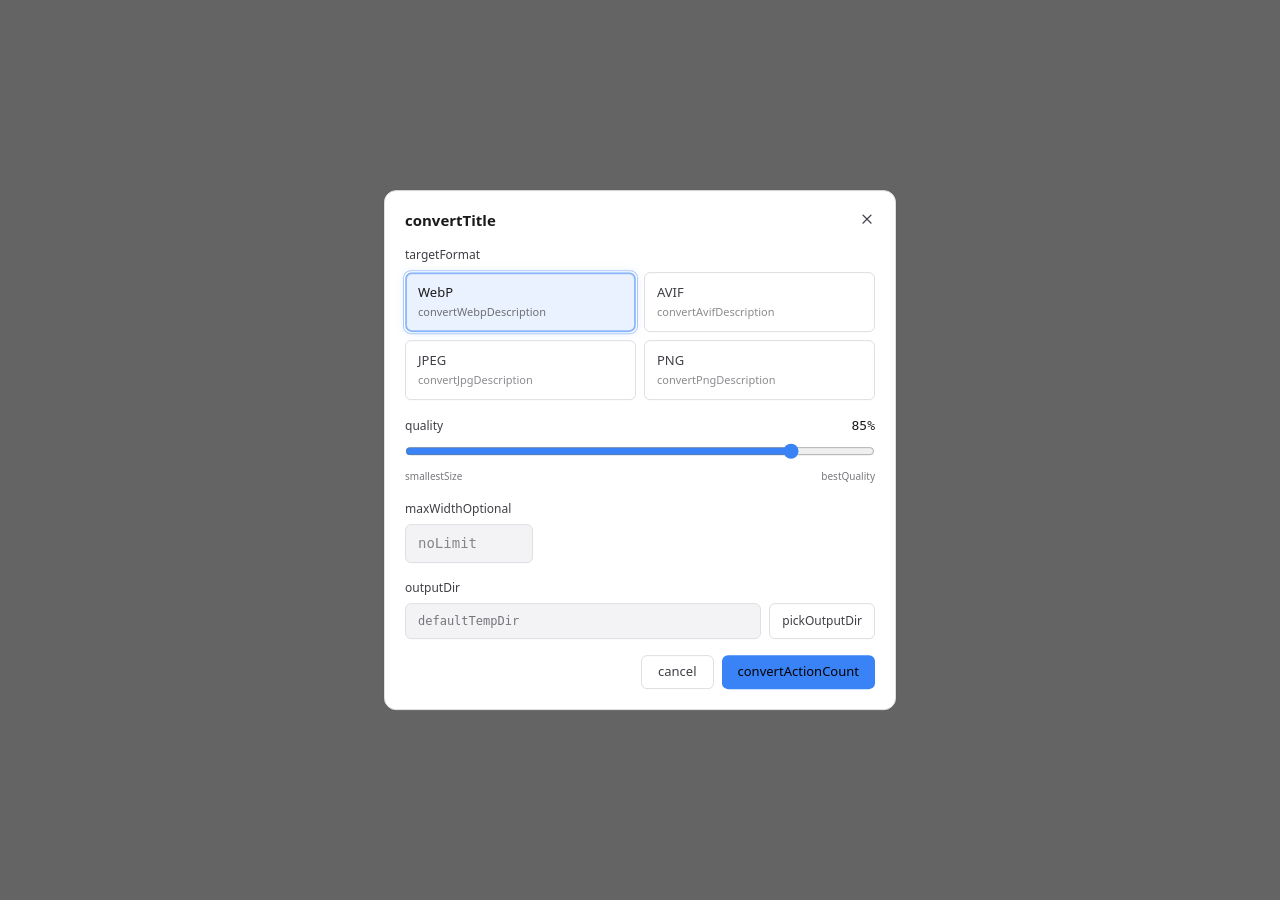
Test: FormatConvertDialog preferences › saves the current values only after a successful conversion
This screenshot has width=1280, height=900.
Click the button "JPEG convertJpgDescription" at [520, 370], box [405, 340, 636, 400]
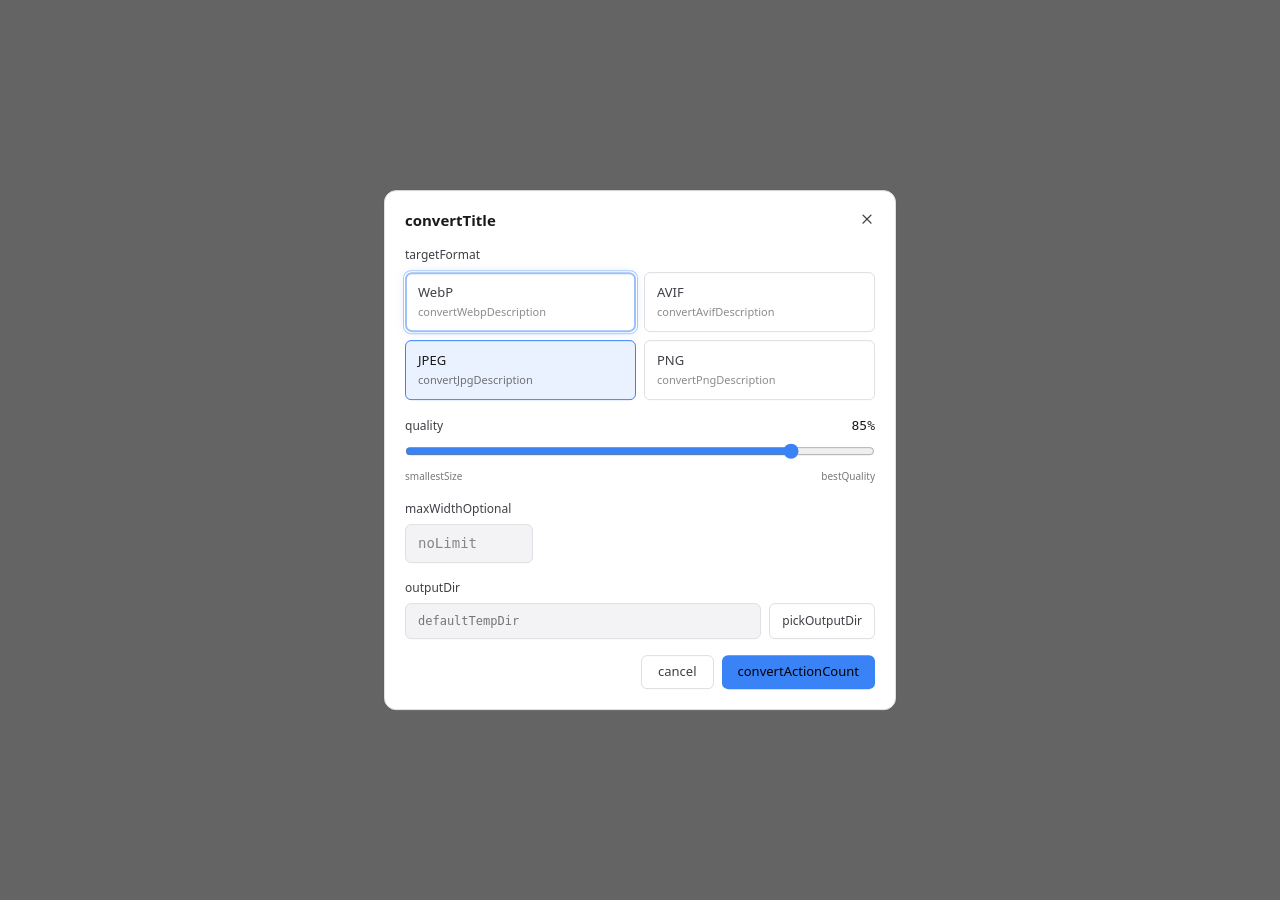
Set the slider labelled "quality" to "72" at [726, 451], box [405, 443, 875, 459]
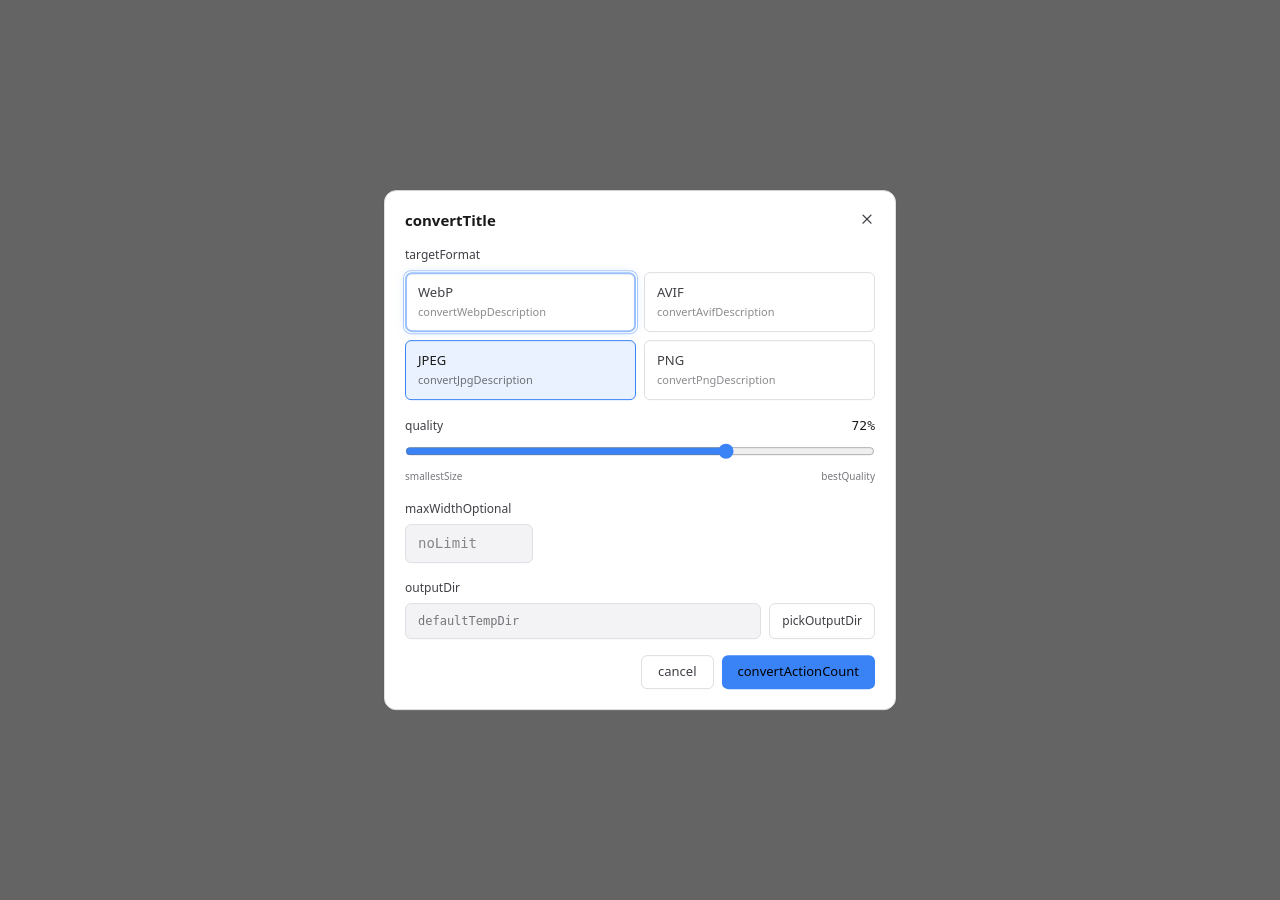
Type "1600" into the field labelled "maxWidthOptional" at [469, 544], box [405, 524, 533, 563]
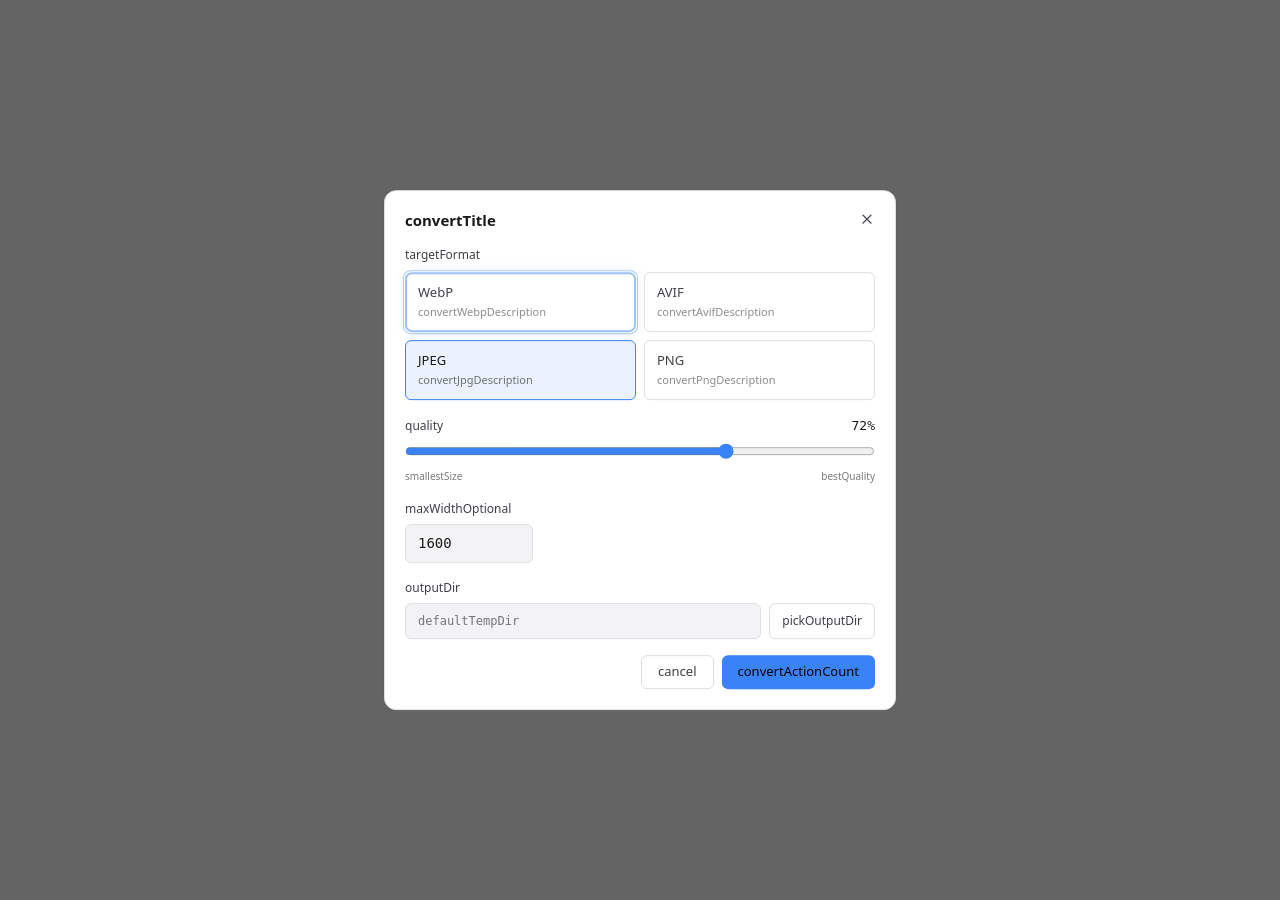
Click the button "pickOutputDir" at [822, 621], box [769, 603, 875, 639]
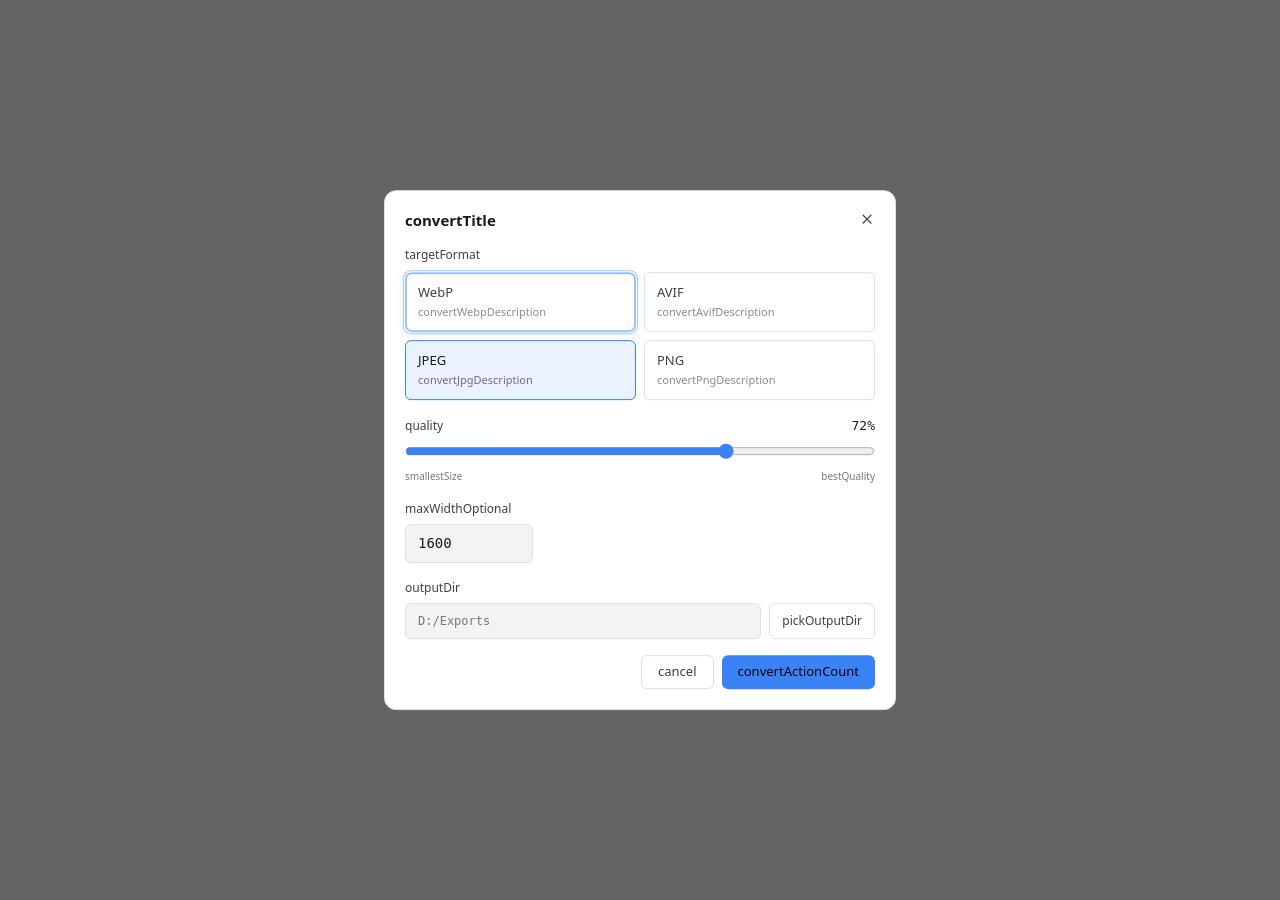
Now the text "D:/Exports" is shown, box [405, 603, 761, 639]
Click the button "convertActionCount" at [798, 672], box [722, 655, 875, 689]
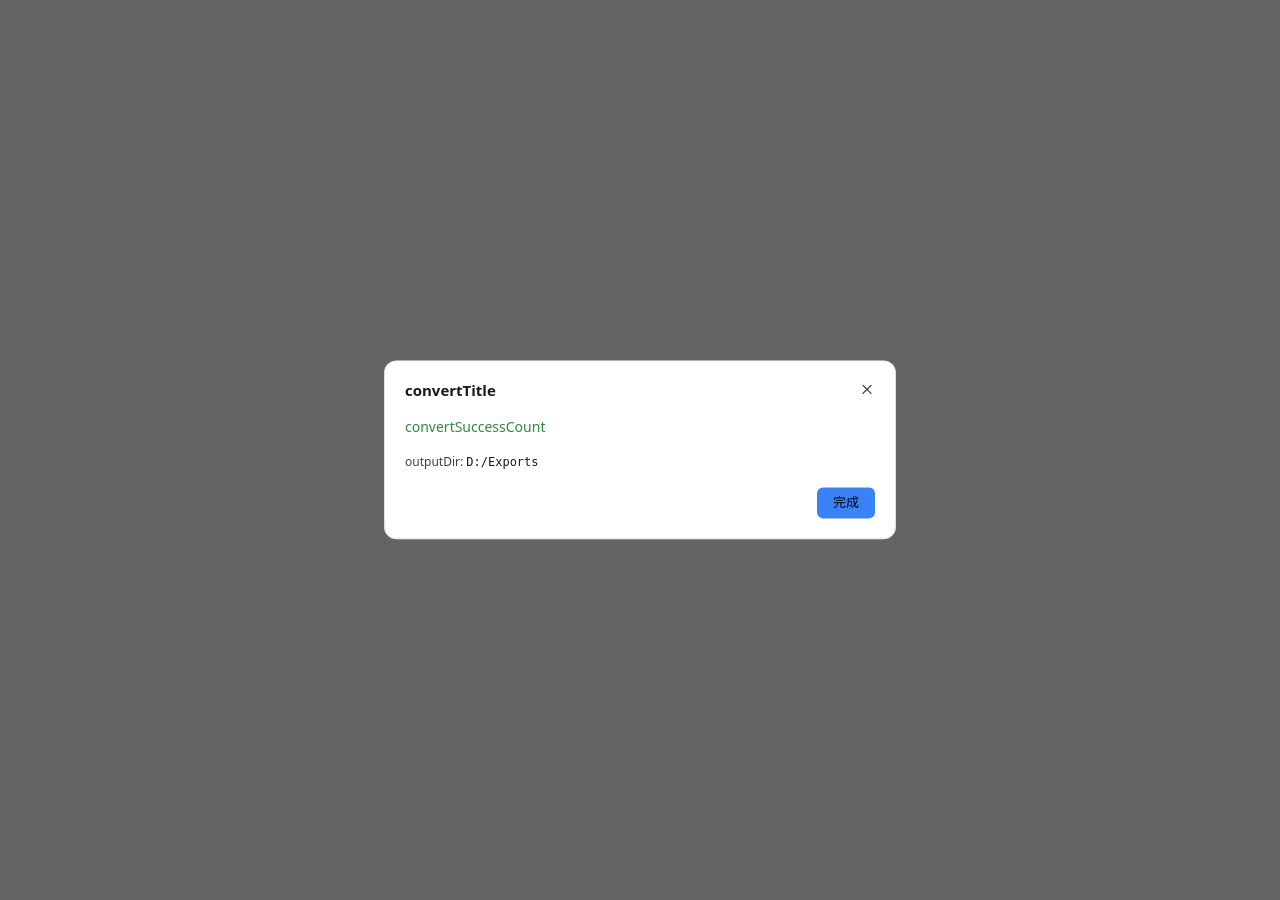
Now the text "convertSuccessCount" is shown, box [405, 417, 546, 436]
